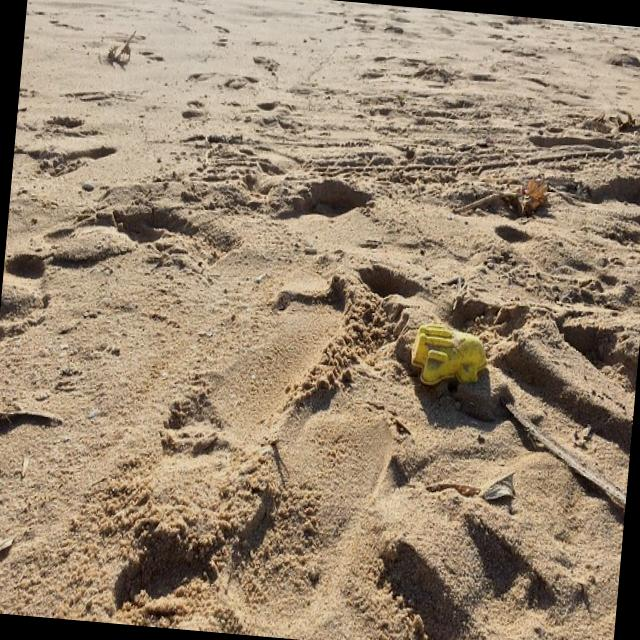Trash: (412, 315, 492, 388)
